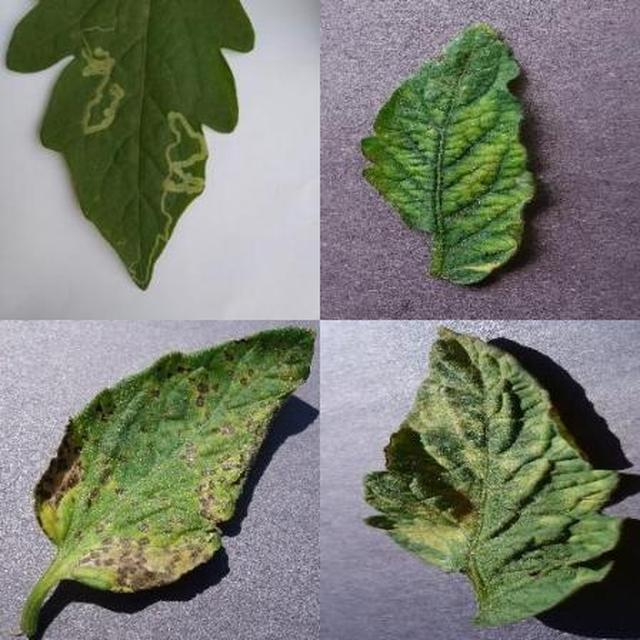Leaf Miner: (185, 210, 640, 640)
